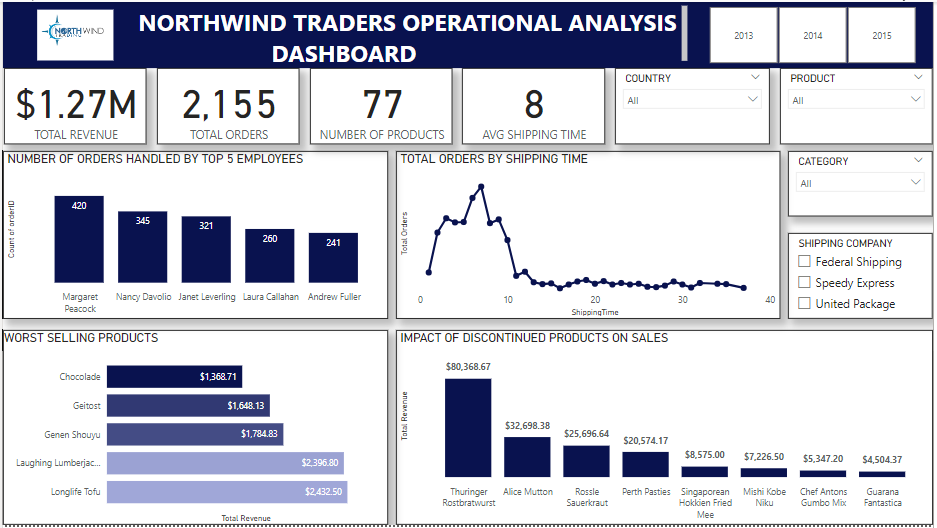

This screenshot's page, from the dashboard's own definition file:
{"tool":"powerbi","page":{"name":"Operational Analysis","canvas":[1280,720],"ordinal":1},"visuals":[{"type":"lineStackedColumnComboChart","title":"IMPACT OF DISCONTINUED PRODUCTS ON SALES","fields":{"Category":["products.productName"],"Y":["order_details.Total Revenue"]},"box":[541.1,451.1,738.9,268.5],"z":0},{"type":"lineChart","title":"TOTAL ORDERS BY SHIPPING TIME","fields":{"Category":["orders.ShippingTime"],"Y":["order_details.Total Orders"]},"box":[541.1,204.8,528.6,231.1],"z":1000},{"type":"clusteredBarChart","title":"WORST SELLING PRODUCTS","fields":{"Category":["products.productName"],"Y":["order_details.Total Revenue"]},"box":[0,451.1,530,268.5],"z":2000},{"type":"clusteredColumnChart","title":"NUMBER OF ORDERS HANDLED BY TOP 5 EMPLOYEES","fields":{"Category":["employees.employeeName"],"Y":["CountNonNull(order_details.orderID)"]},"box":[0,200.6,530,235.2],"z":3000},{"type":"textbox","box":[0,0,946.5,91.3],"z":4000},{"type":"image","box":[0,5.5,197.9,80.3],"z":5000},{"type":"slicer","fields":{"Values":["Calendar.Year"]},"box":[946.5,0,333.5,91.3],"z":6000},{"type":"card","fields":{"Values":["order_details.Total Revenue"]},"box":[1.4,91.3,196.5,105],"z":7000},{"type":"card","fields":{"Values":["order_details.Total Orders"]},"box":[211.8,91.3,196.5,105.2],"z":8000},{"type":"card","fields":{"Values":["CountNonNull(products.productName)"]},"box":[422.3,91.3,196,105],"z":9000},{"type":"card","fields":{"Values":["orders.Avg_Shipping_Time"]},"box":[632.2,91.3,196.5,105.2],"z":10000},{"type":"slicer","fields":{"Values":["customers.country"]},"box":[842.6,91.3,213.1,105.2],"z":11000},{"type":"slicer","fields":{"Values":["products.productName"]},"box":[1069.7,91.3,210.3,105.2],"z":12000},{"type":"slicer","fields":{"Values":["categories.categoryName"]},"box":[1080.7,204.8,199.3,89.9],"z":13000},{"type":"slicer","fields":{"Values":["shippers.companyName"]},"box":[1080.7,318.3,199.3,117.6],"z":14000}]}

Visuals, with their boxes in screenshot pixels (x1, y1, x2, y2), scaled from the page's 1280x720 canvas onto the 937x528 screenshot:
"IMPACT OF DISCONTINUED PRODUCTS ON SALES" lineStackedColumnComboChart: Rect(396, 331, 936, 527)
"TOTAL ORDERS BY SHIPPING TIME" lineChart: Rect(396, 150, 783, 320)
"WORST SELLING PRODUCTS" clusteredBarChart: Rect(0, 331, 388, 527)
"NUMBER OF ORDERS HANDLED BY TOP 5 EMPLOYEES" clusteredColumnChart: Rect(0, 147, 388, 320)
textbox: Rect(0, 0, 693, 67)
image: Rect(0, 4, 145, 63)
slicer - Calendar.Year: Rect(693, 0, 936, 67)
card - order_details.Total Revenue: Rect(1, 67, 145, 144)
card - order_details.Total Orders: Rect(155, 67, 299, 144)
card - CountNonNull(products.productName): Rect(309, 67, 453, 144)
card - orders.Avg_Shipping_Time: Rect(463, 67, 607, 144)
slicer - customers.country: Rect(617, 67, 773, 144)
slicer - products.productName: Rect(783, 67, 936, 144)
slicer - categories.categoryName: Rect(791, 150, 936, 216)
slicer - shippers.companyName: Rect(791, 233, 936, 320)
